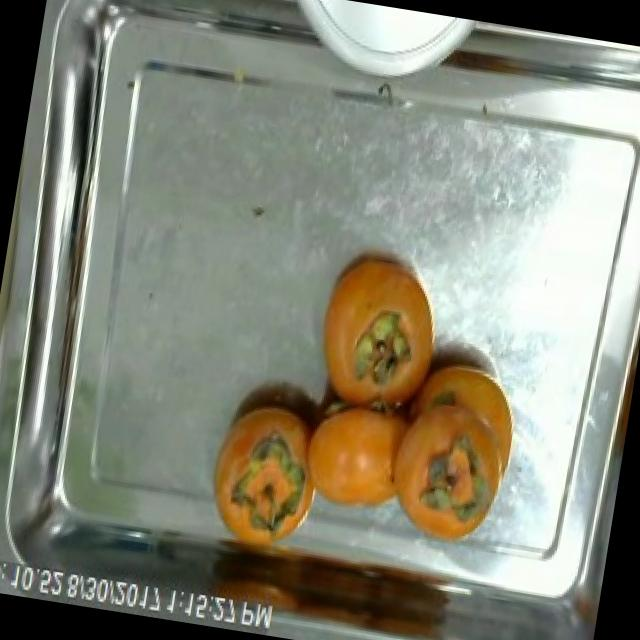Fruit: (298, 230, 457, 432), (193, 402, 324, 560)
